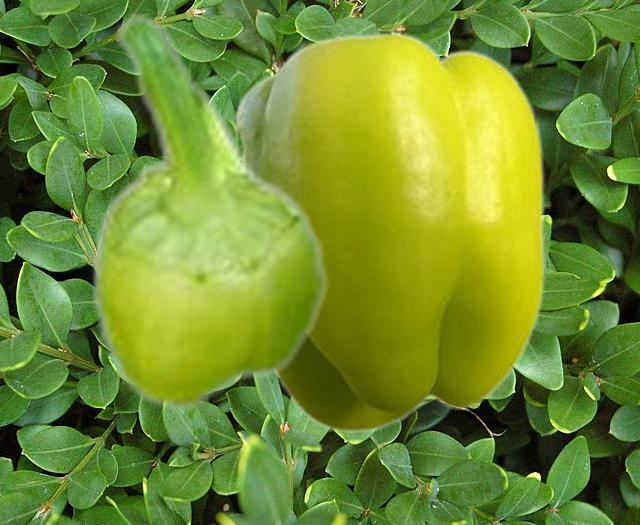bell_pepper: (233, 30, 544, 432), (89, 14, 329, 411)
